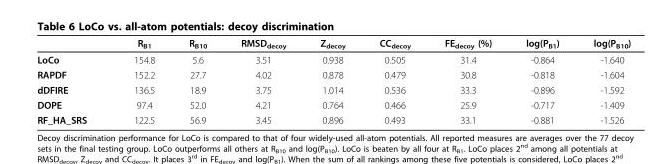table: (36, 36, 630, 125)
table column: (426, 36, 508, 125), (223, 36, 302, 125), (36, 36, 109, 125), (508, 36, 575, 125), (361, 36, 426, 125), (109, 36, 171, 125), (302, 36, 361, 125), (575, 36, 630, 125), (171, 36, 223, 125)
table column header: (36, 36, 630, 51)
table row: (36, 36, 630, 51), (36, 51, 630, 66), (36, 66, 630, 81), (36, 81, 630, 96), (36, 96, 630, 111), (36, 111, 630, 125)
